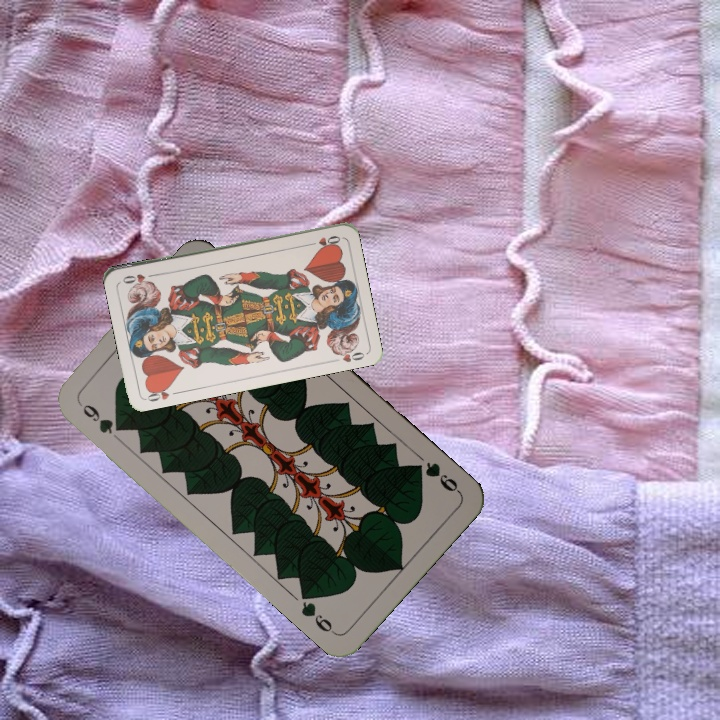G9: (408, 458, 463, 496), (74, 398, 127, 437)
HO: (142, 381, 182, 404), (303, 231, 343, 248)
